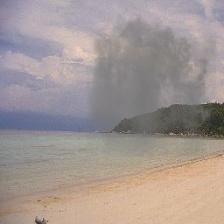fire: (85, 8, 217, 157)
